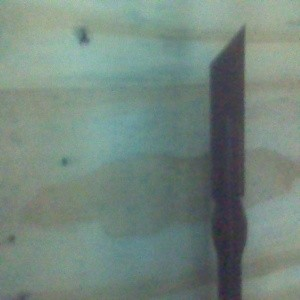cutter: (207, 24, 249, 300)
